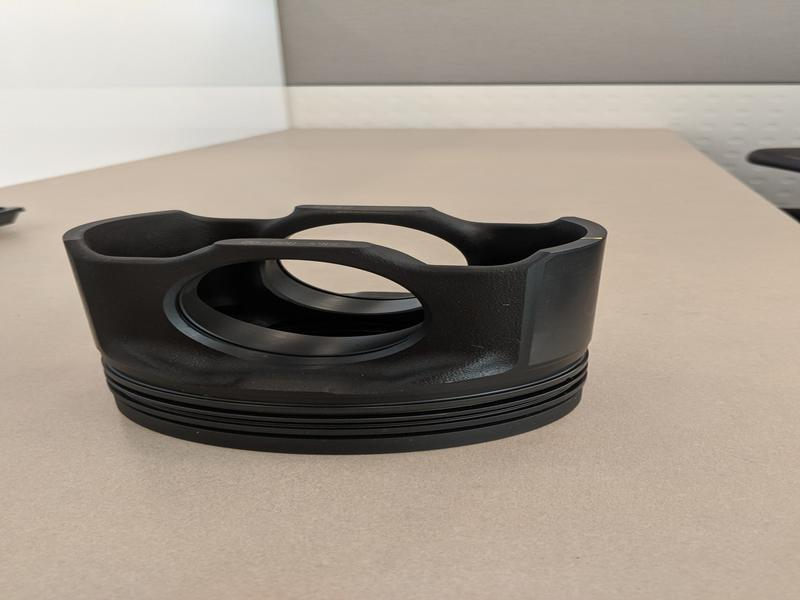piston: (61, 203, 612, 461)
